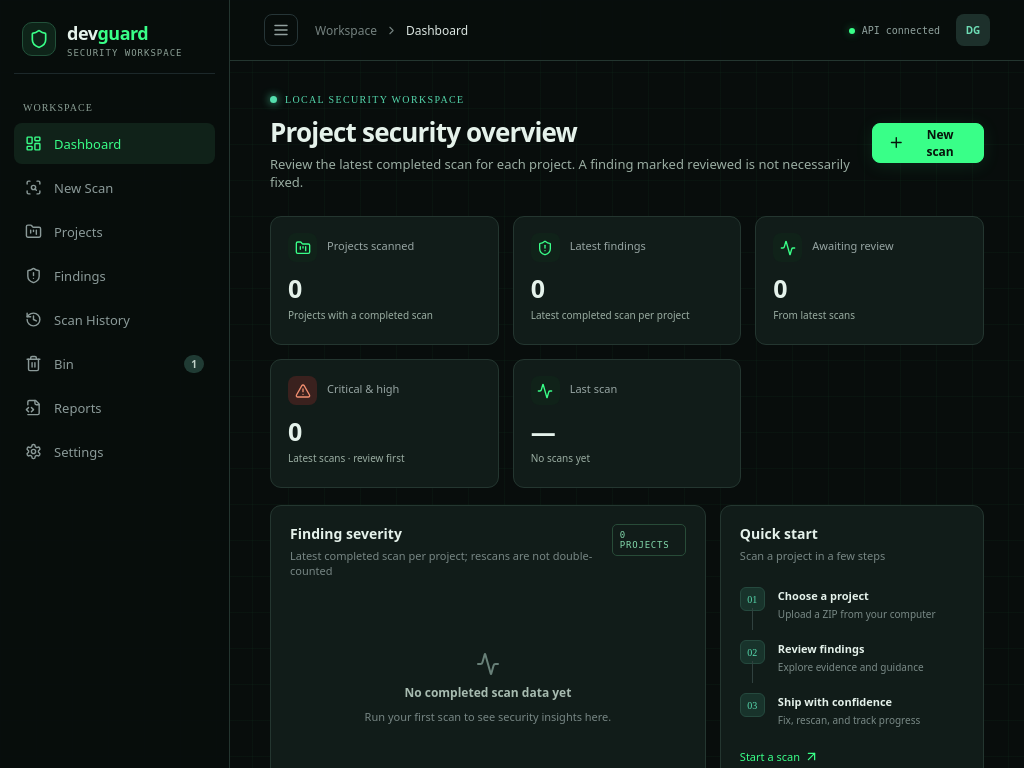
Test case: DevGuard workstation › requires a typed confirmation before emptying the Bin and confirms permanent deletion
expect the text "API connected" is shown: met, box left=849, top=24, right=940, bottom=36
Click the button "Bin 1" at (114, 364), box left=14, top=343, right=215, bottom=384
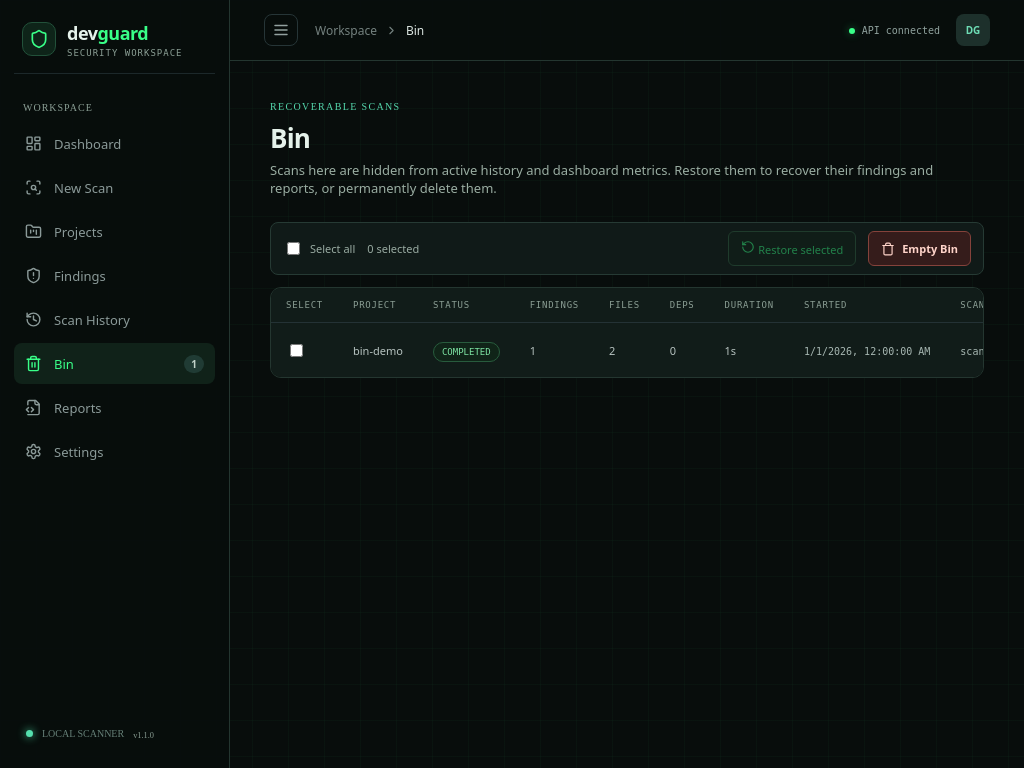
expect the text "bin-demo" is shown: met, box left=338, top=322, right=418, bottom=377
Click the button "Empty Bin" at (920, 248), box left=868, top=231, right=971, bottom=266
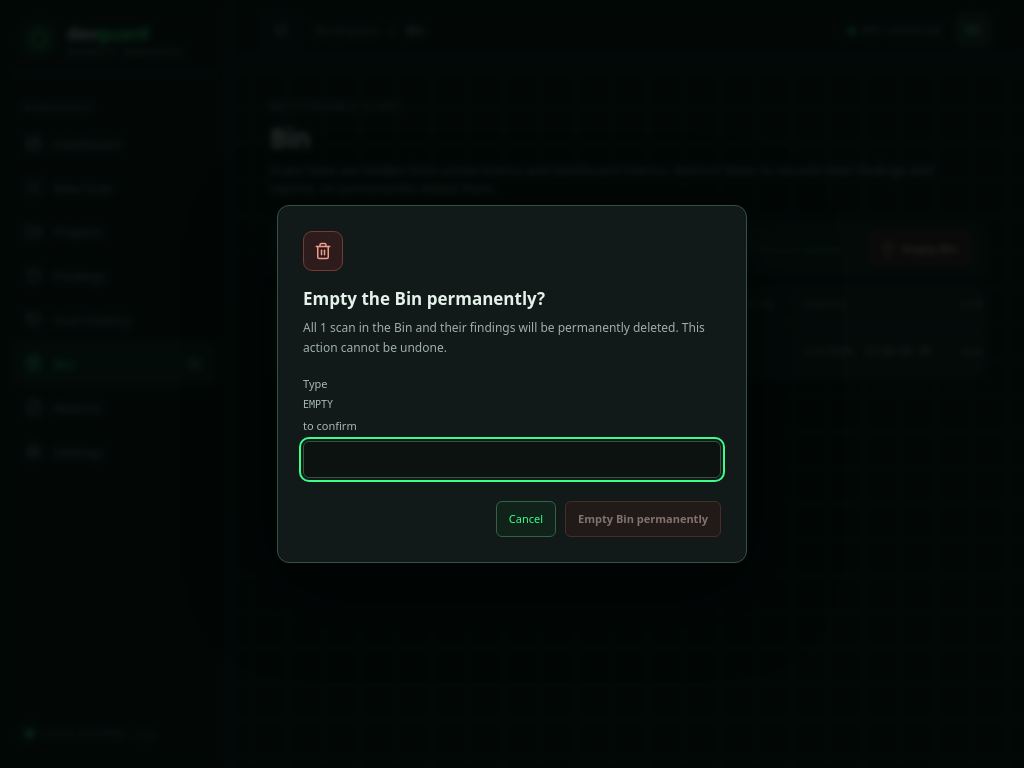
expect the dialog shows "cannot be undone": met, box left=303, top=319, right=705, bottom=356
expect the button "Empty Bin permanently" is disabled: met, box left=565, top=501, right=721, bottom=537
Type "EMPTY" into the field labelled "Type EMPTY to confirm" at (512, 459), box left=303, top=441, right=721, bottom=478
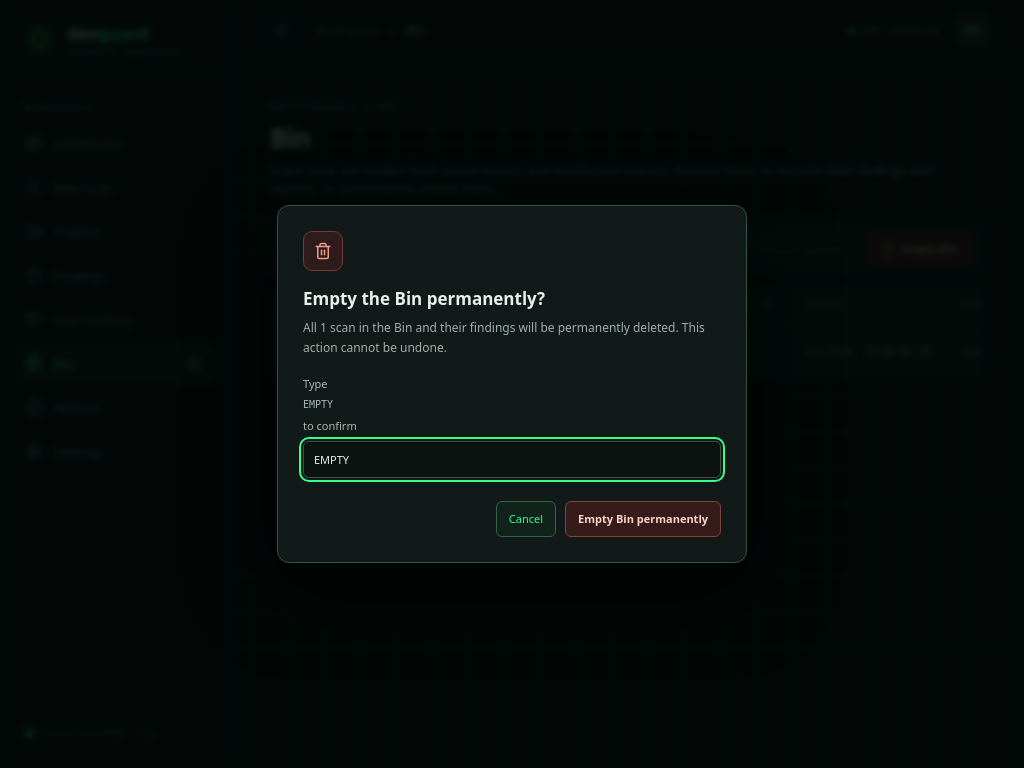
expect the button "Empty Bin permanently" is enabled: met
Click the button "Empty Bin permanently" at (643, 519), box left=565, top=501, right=721, bottom=537
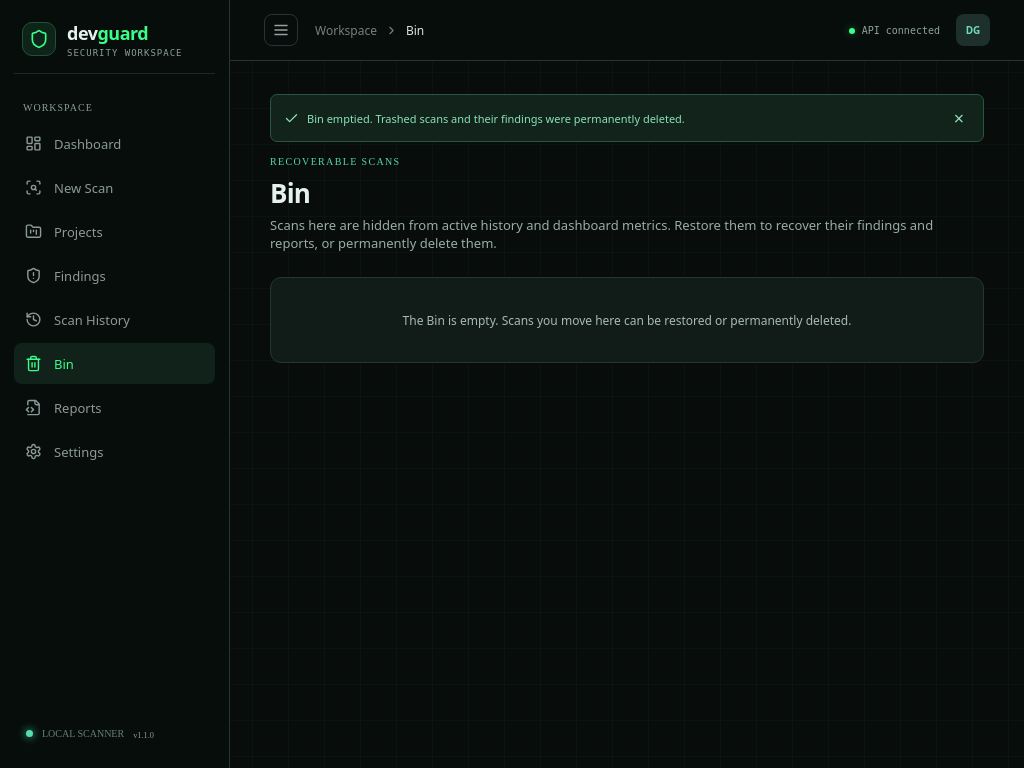
expect the text "The Bin is empty" is shown: met, box left=403, top=312, right=851, bottom=328
